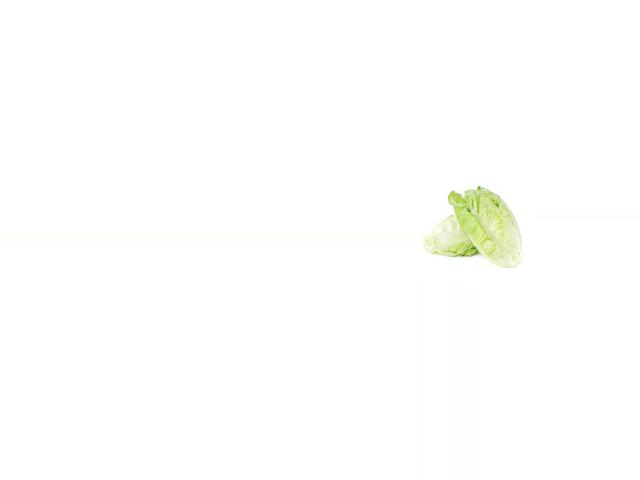lettuce: (421, 211, 479, 261)
